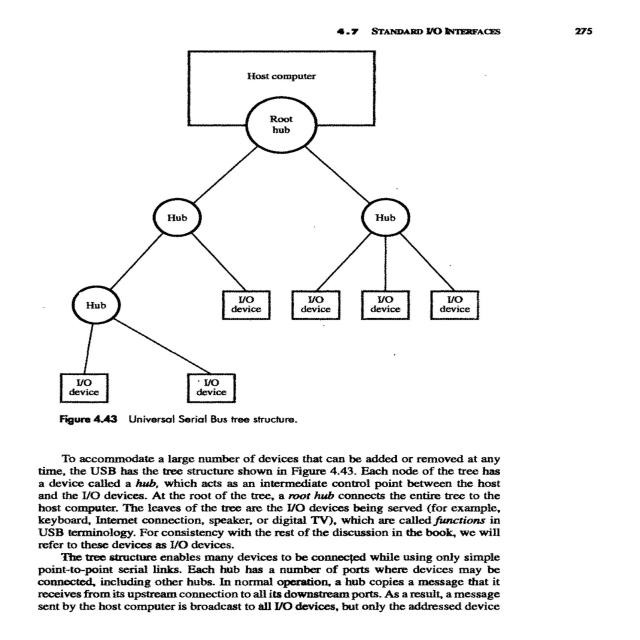diagram: (54, 36, 640, 445)
